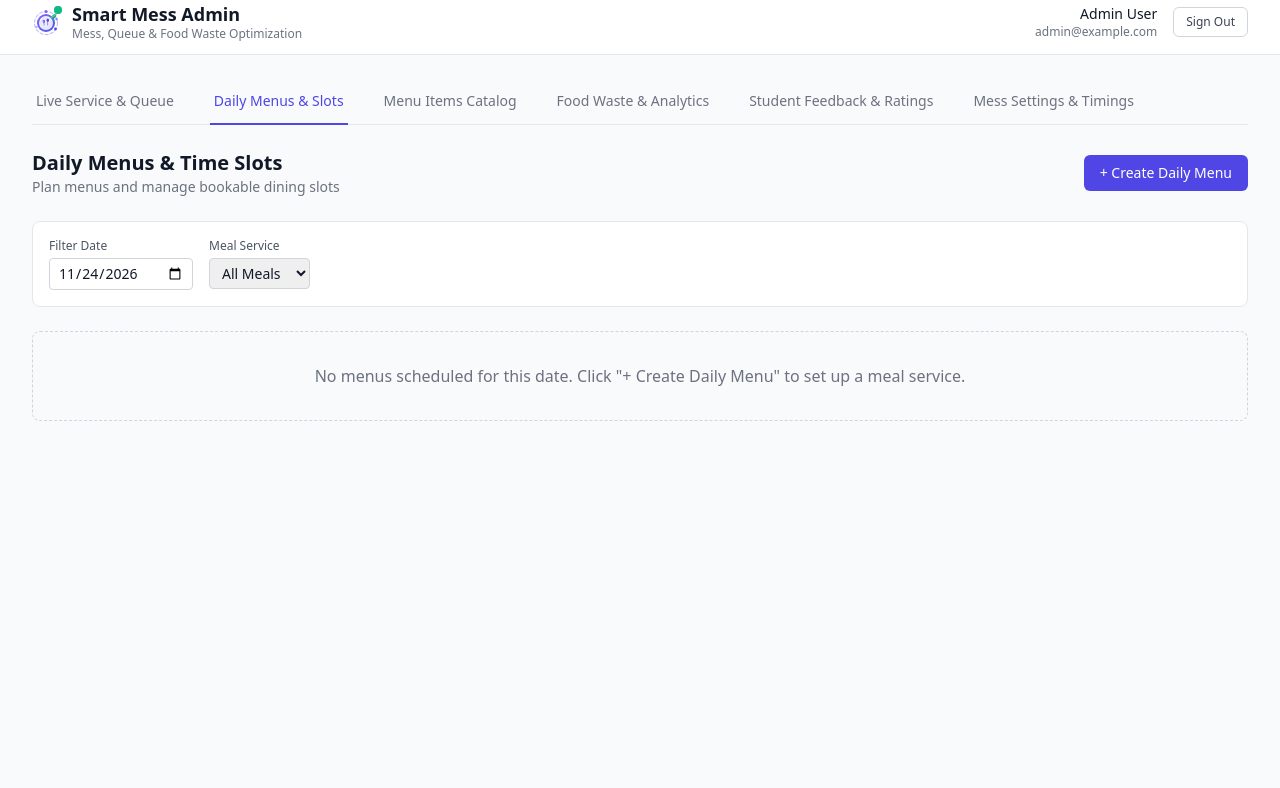
Scenario: Food Waste Tracking & Analytics UI (Phase 5) › renders the visual food waste analytics charts with real analytics data
Click the button "Food Waste & Analytics".
click(633, 102)  # box x1=553 y1=78 x2=713 y2=124
(page scrolled)
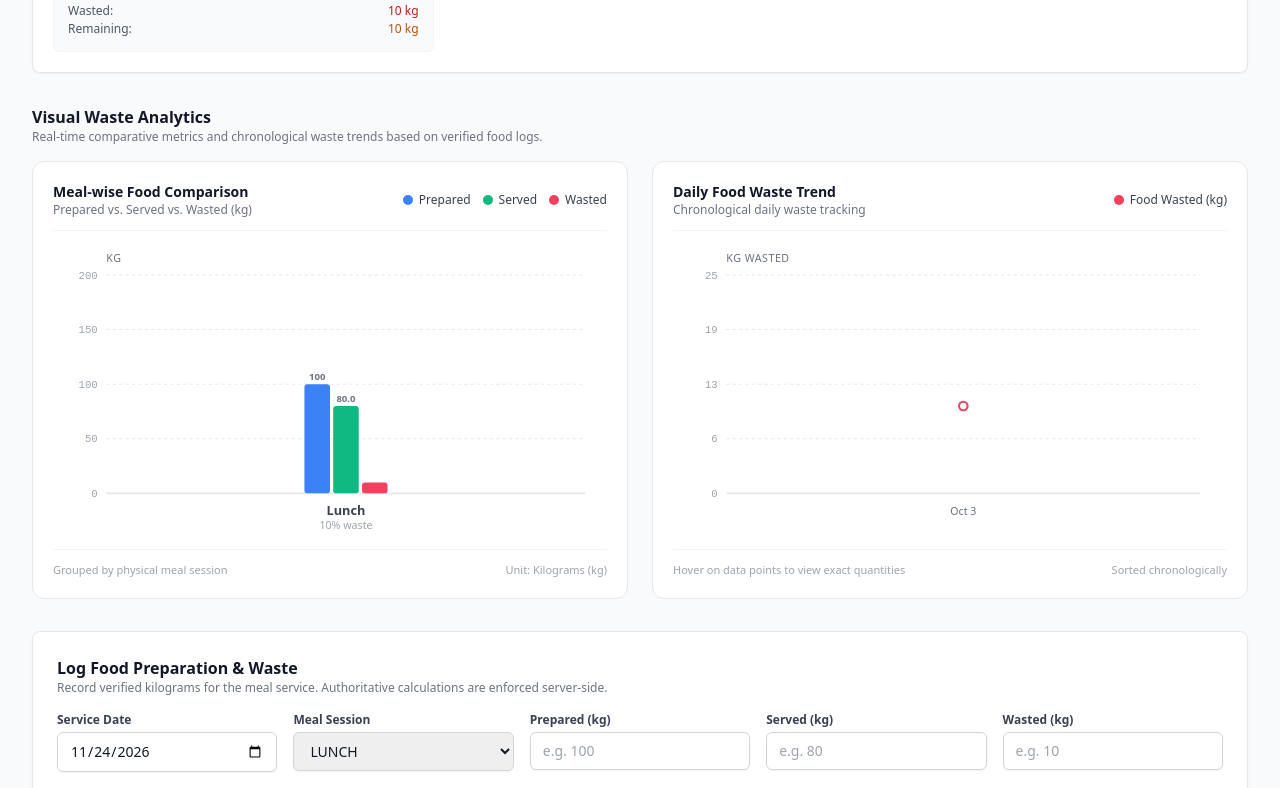
Result: the element with test id "food-waste-charts-section" is shown at x1=32 y1=104 x2=1248 y2=599
Result: the heading "Visual Waste Analytics" is shown at x1=32 y1=106 x2=211 y2=128
Result: the element with test id "chart-meal-comparison" is shown at x1=32 y1=160 x2=628 y2=599
